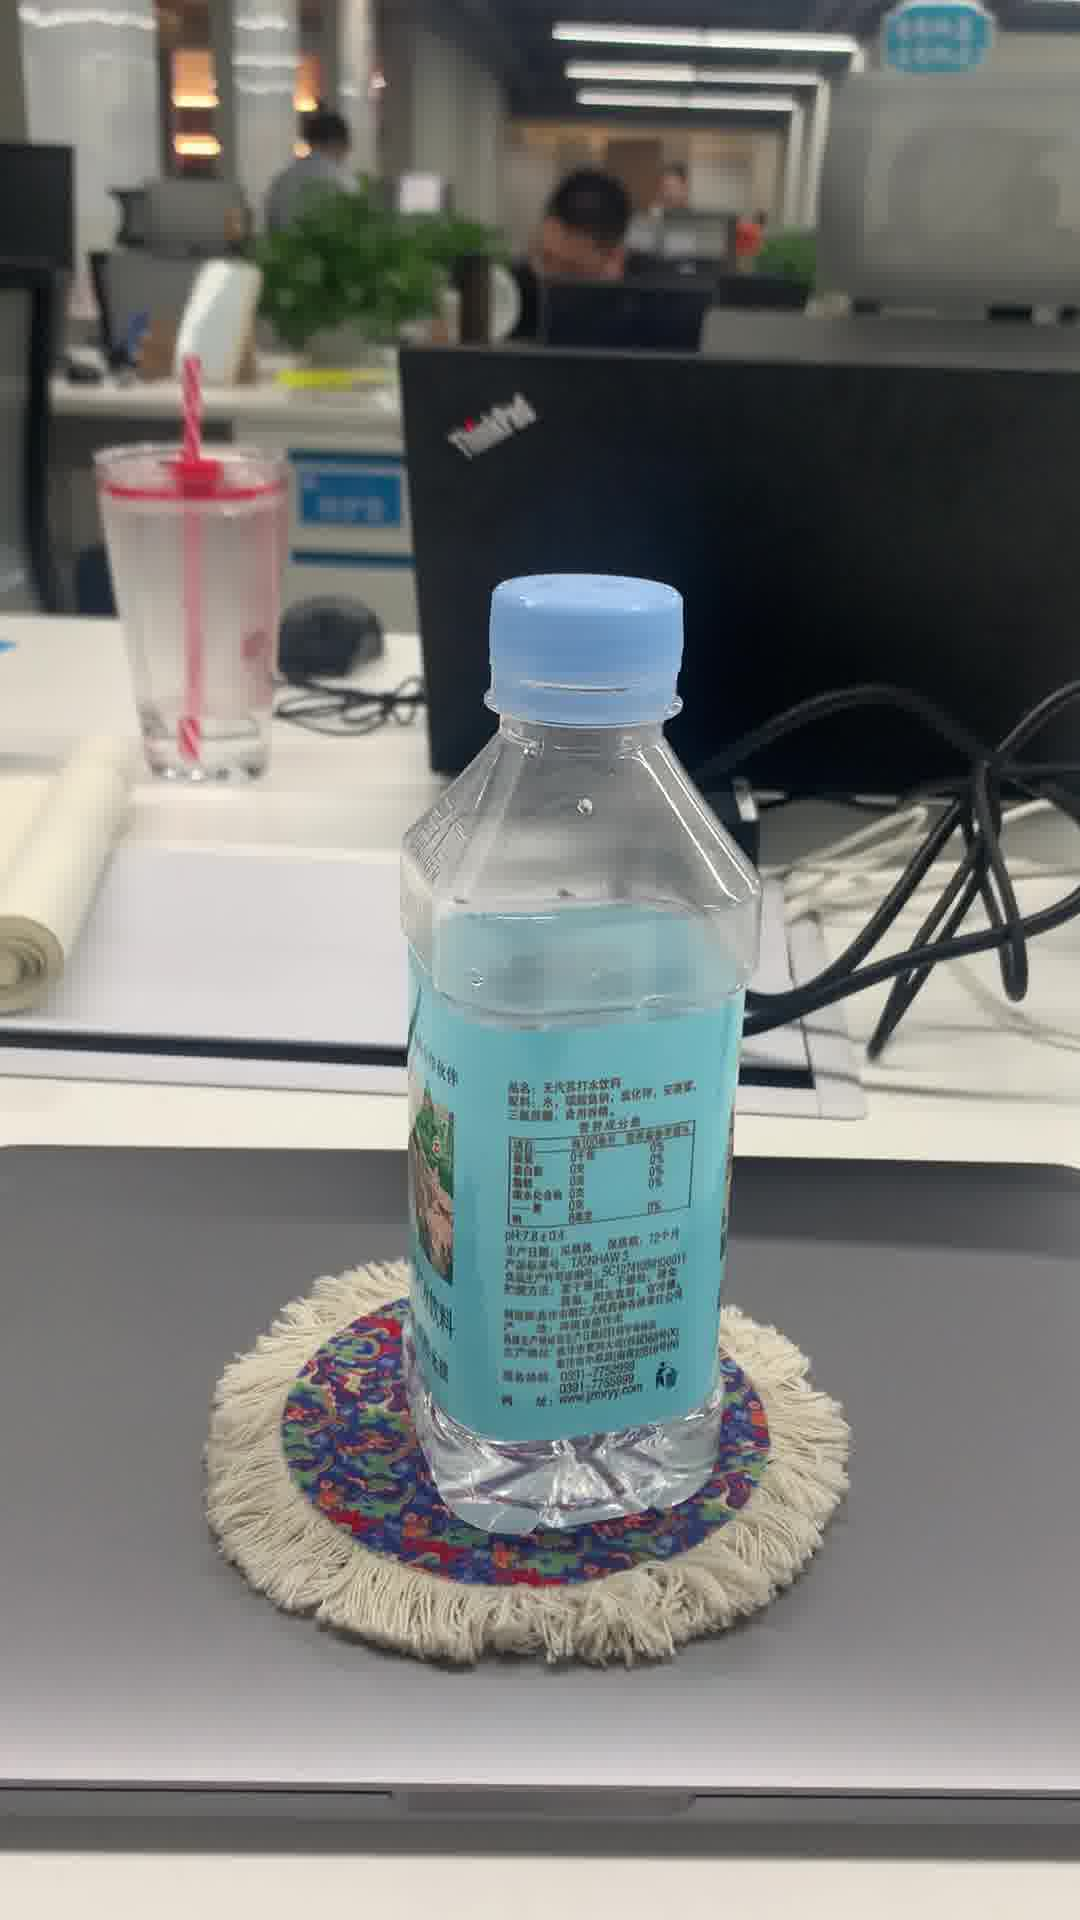水瓶: (402, 567, 753, 1522)
